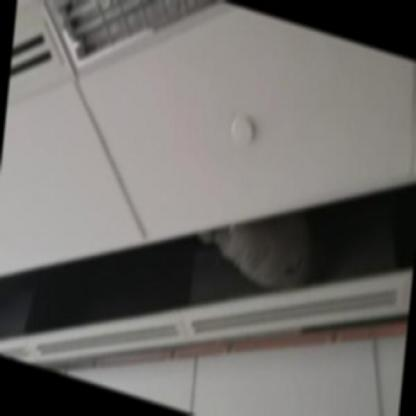light_off: (32, 0, 251, 124)
